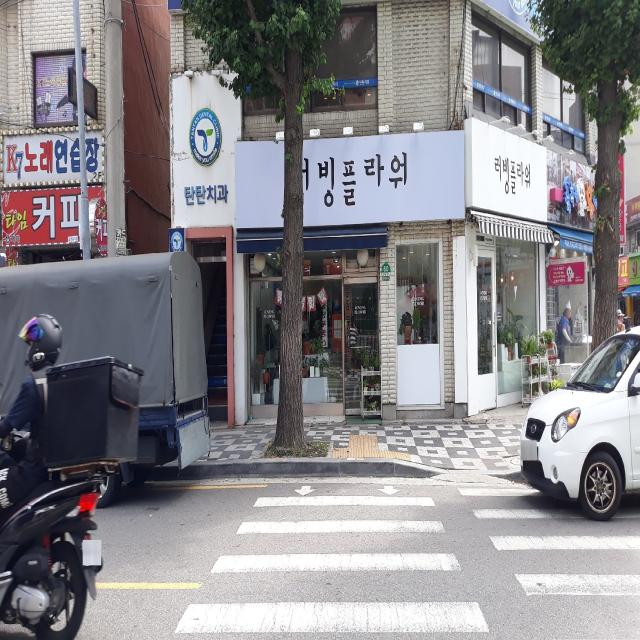횡단보도: (173, 483, 640, 640)
